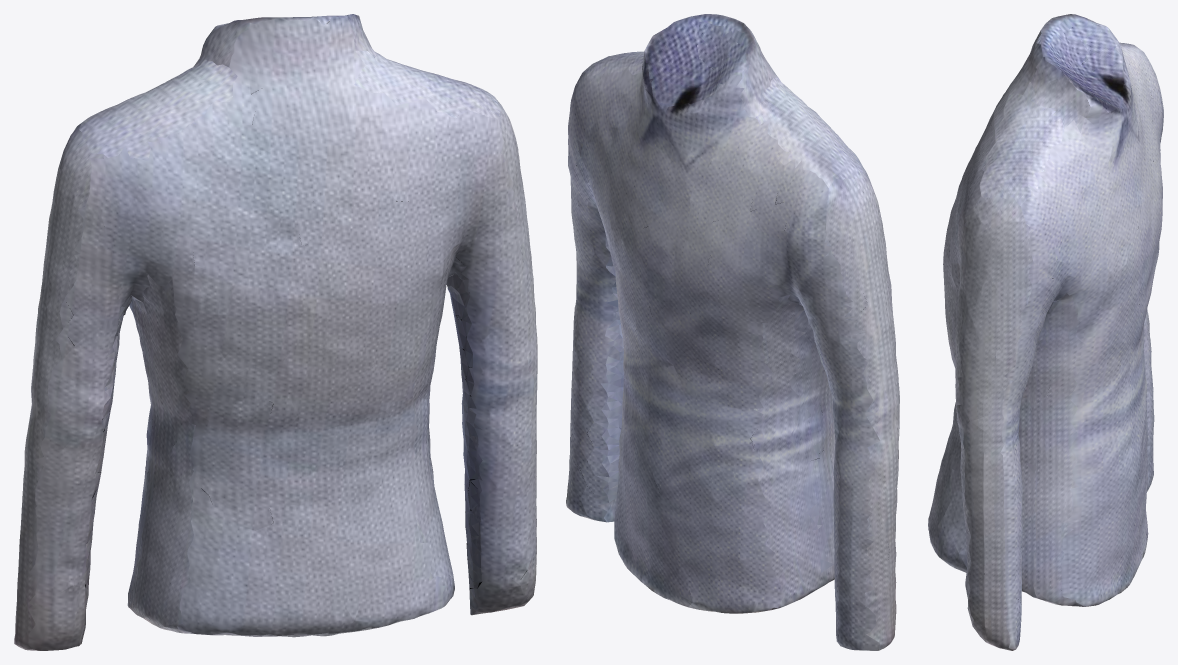
3 views of the same model, side by side, from view 1: azimuth 30°, elevation 25°; view 2: azimuth 150°, elevation 25°; view 3: azimuth 270°, elevation 25° (orthographic). The views are drawn at different scales.
Parts seen in each view (by area): view 1: world; view 2: world; view 3: world.
Boxes of the visible parts, x1,y1,x2,y2 form: world: (14, 14, 537, 650); world: (566, 14, 899, 650); world: (928, 14, 1163, 650).
Size of the model in its own units: 0.6666 by 0.9087 by 0.3541.
1 material, 1 textured.
